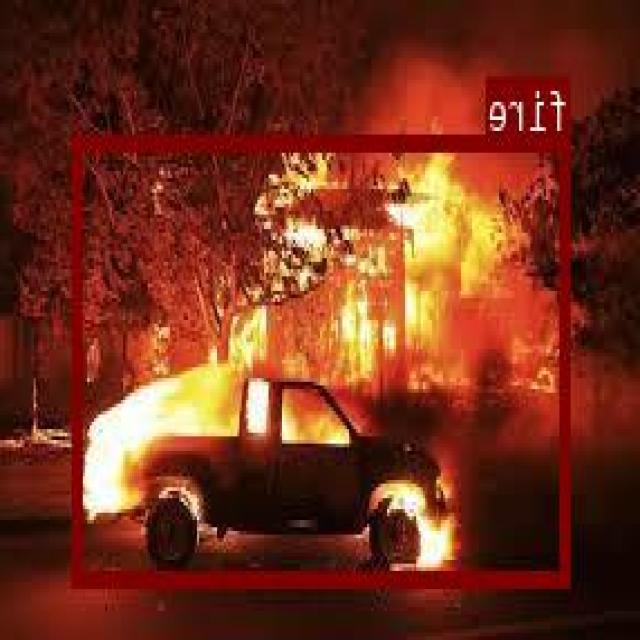fire: (74, 134, 573, 584)
